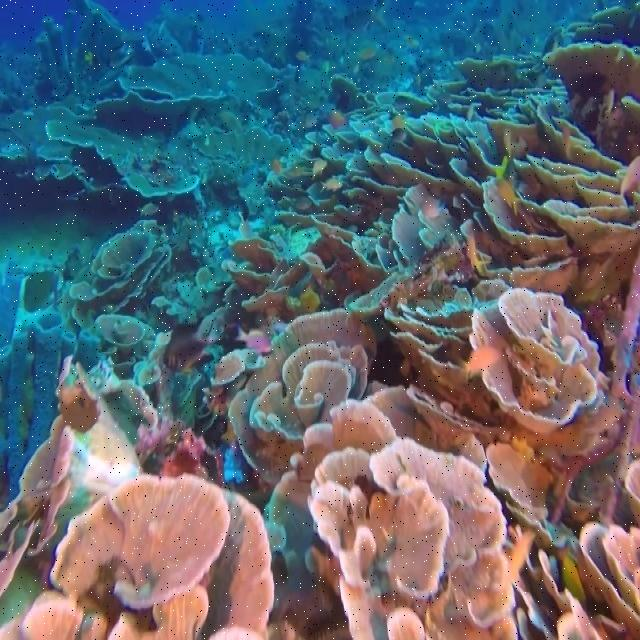reefs: (0, 2, 639, 637), (0, 354, 275, 639), (263, 384, 518, 639), (228, 308, 376, 485), (465, 286, 612, 434)
